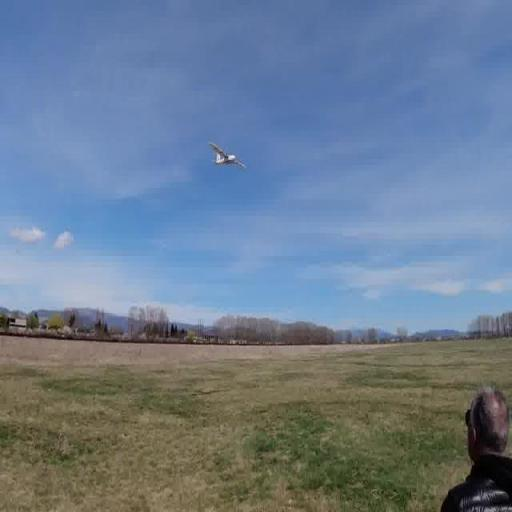uav: (206, 130, 248, 183)
